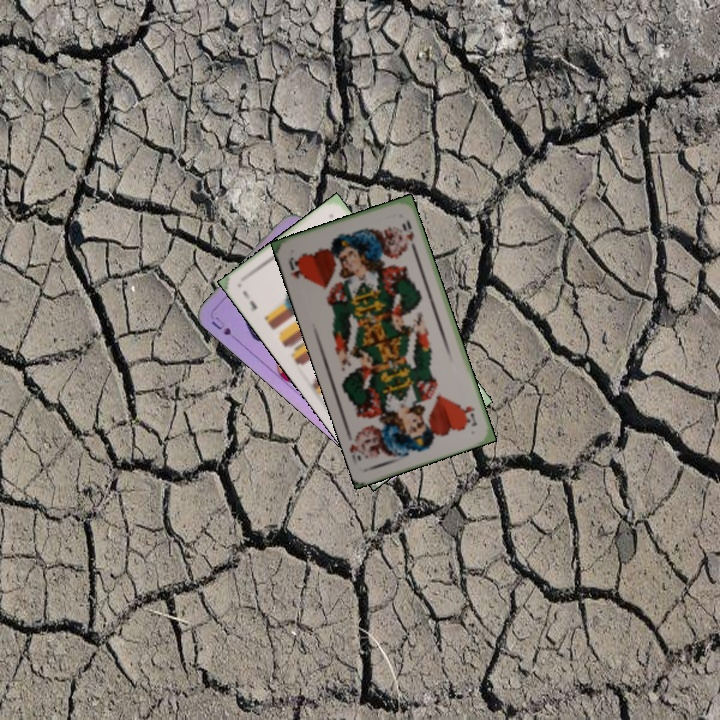E7: (239, 287, 260, 314)
HO: (285, 253, 308, 282), (459, 402, 479, 429)
SU: (207, 313, 242, 345)
